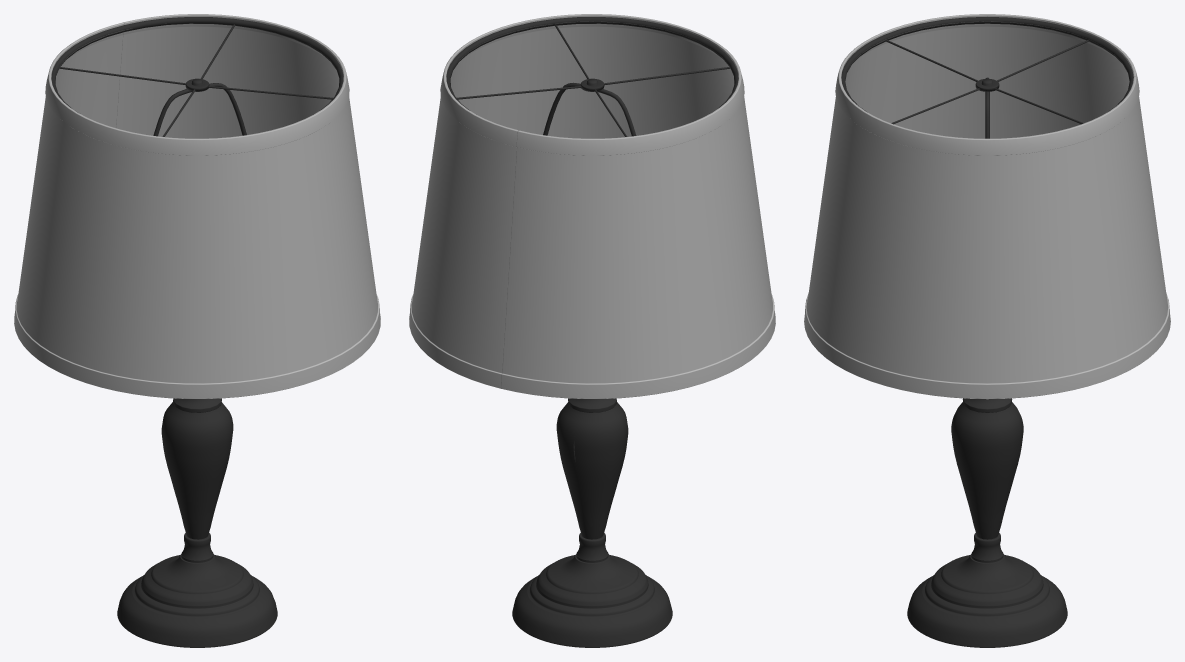
The model's file is lamp_B07DBK7KH8.glb.
The picture shows the model from 3 angles, left to right: view 1: azimuth 30°, elevation 25°; view 2: azimuth 150°, elevation 25°; view 3: azimuth 270°, elevation 25°; orthographic projection.
Parts seen in each view (by area): view 1: RootNode; view 2: RootNode; view 3: RootNode.
Boxes of the visible parts, box(x1,y1,x2,y2) form: RootNode: box(14, 14, 380, 647); RootNode: box(409, 14, 775, 647); RootNode: box(804, 14, 1170, 647).
Bounding box in the file's own units: 0.3098 × 0.5007 × 0.3098.
1 material, 1 textured.
